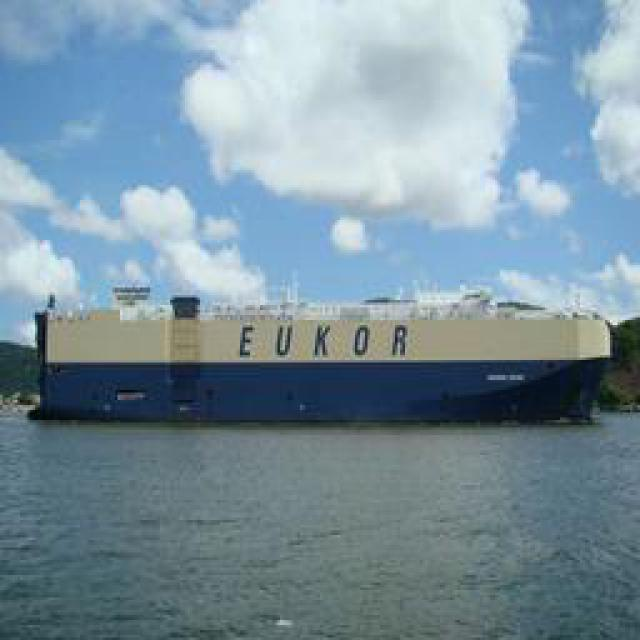Ship: (20, 285, 625, 433)
